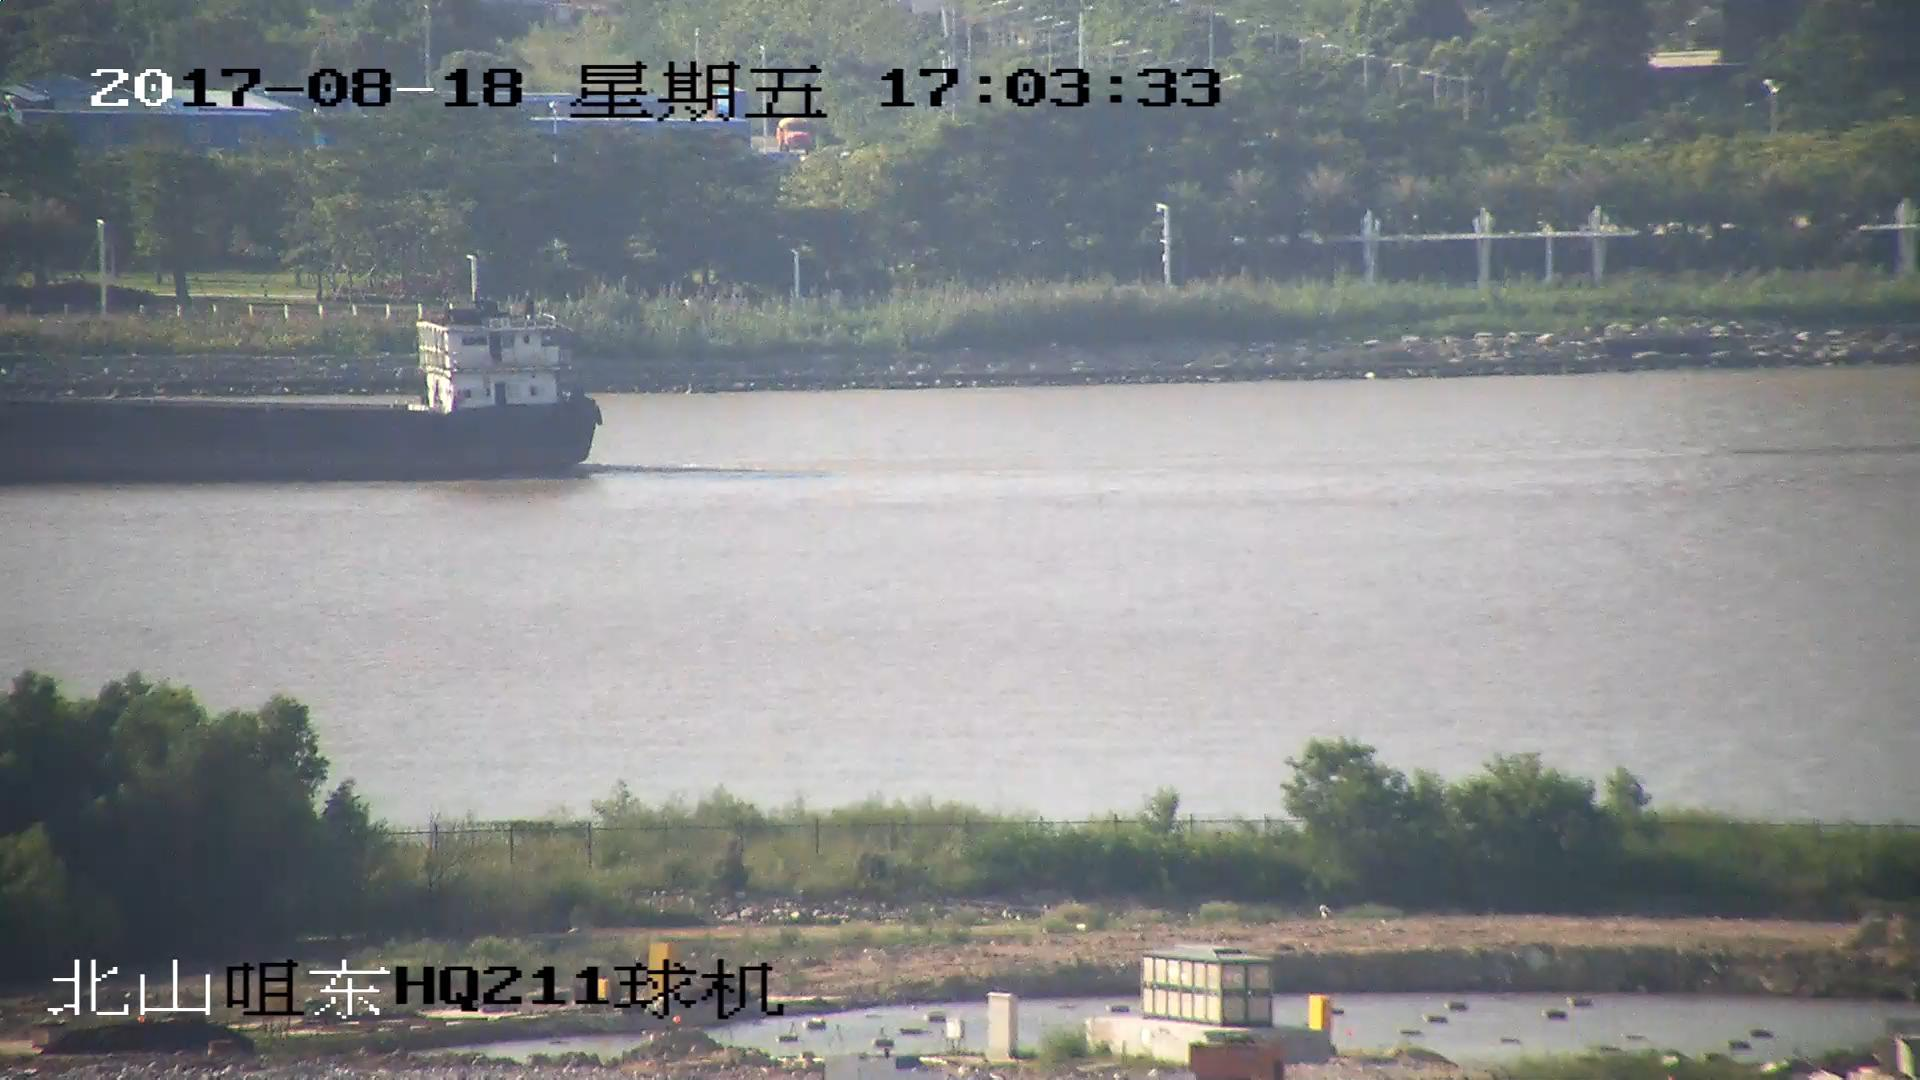Ship: (3, 295, 611, 476)
